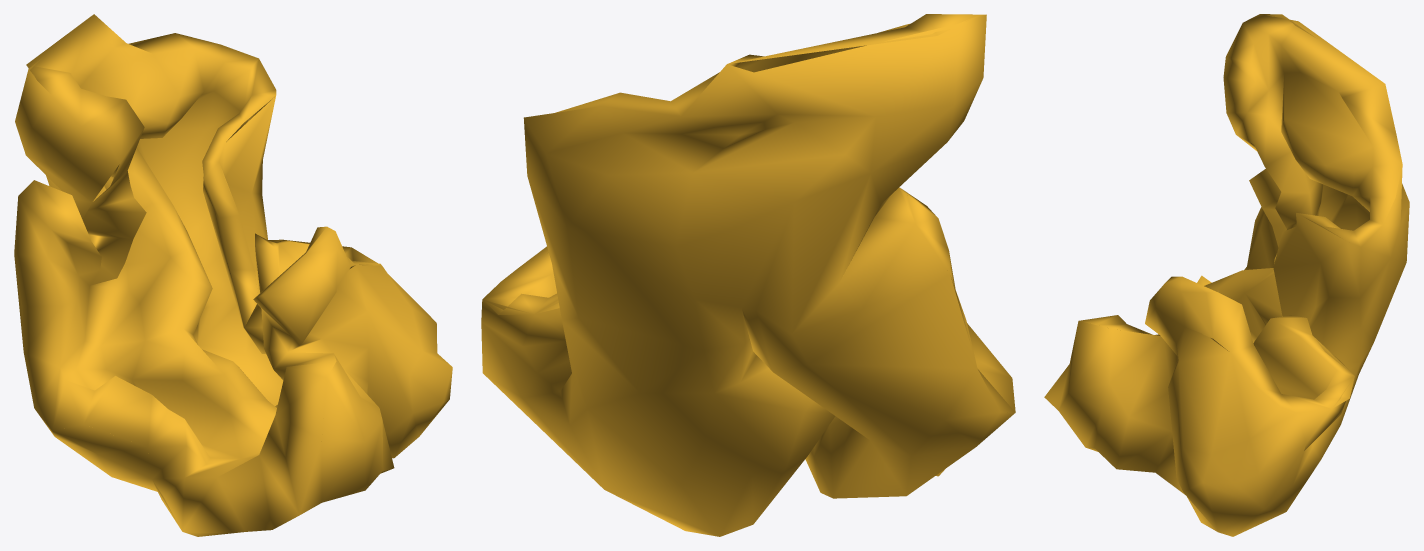
The model's file is nervoso-occipital-pole-r.glb.
The picture shows the model from 3 angles, left to right: view 1: azimuth 30°, elevation 25°; view 2: azimuth 150°, elevation 25°; view 3: azimuth 270°, elevation 25°; orthographic projection. The views are drawn at different scales.
Visible parts, largest first — view 1: Occipital pole.r; view 2: Occipital pole.r; view 3: Occipital pole.r.
Part boxes in pixels (x1=…): Occipital pole.r: x1=14, y1=14, x2=452, y2=536; Occipital pole.r: x1=481, y1=14, x2=1015, y2=536; Occipital pole.r: x1=1044, y1=14, x2=1409, y2=536.
Bounding box in the file's own units: 0.0316 × 0.0345 × 0.0284.
